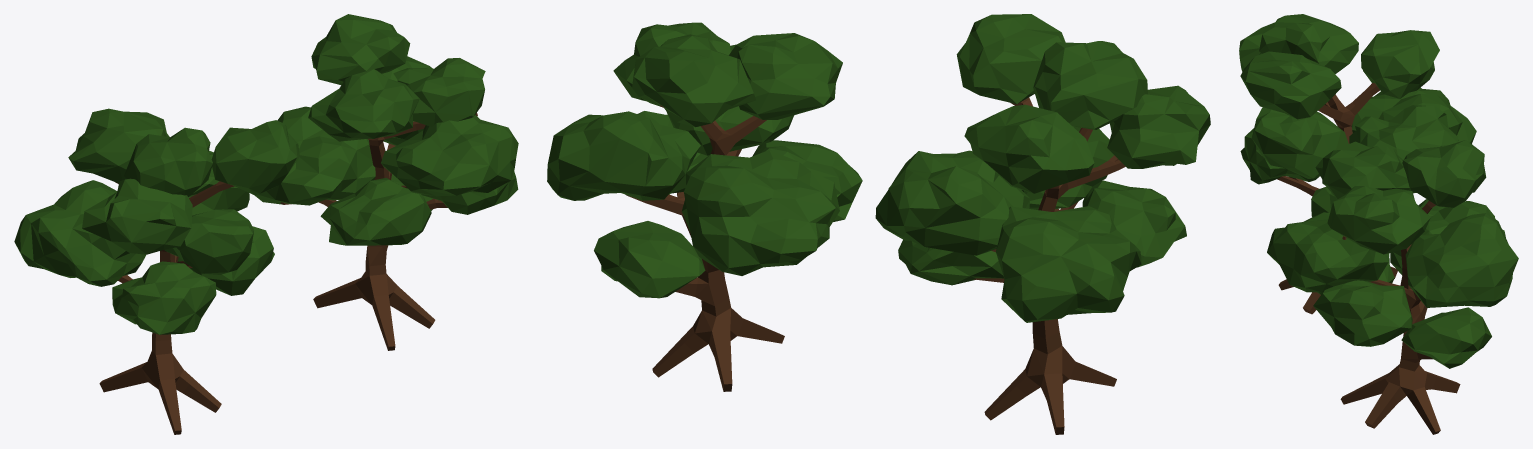
File: дерева 1.fbx
3 views of the same model, side by side, from view 1: azimuth 30°, elevation 25°; view 2: azimuth 150°, elevation 25°; view 3: azimuth 270°, elevation 25° (orthographic). The views are drawn at different scales.
Visible parts, largest first — view 1: Куб.035, Куб.034; view 2: Куб.035, Куб.034; view 3: Куб.034, Куб.035.
Part boxes in pixels (x1,y1,x2,y2): Куб.035: (14,108,299,434); Куб.034: (254,14,518,350); Куб.035: (875,14,1210,434); Куб.034: (547,22,862,391); Куб.034: (1267,140,1518,434); Куб.035: (1239,14,1476,314).
Size of the model in its own units: 2286 by 1390 by 1255.
